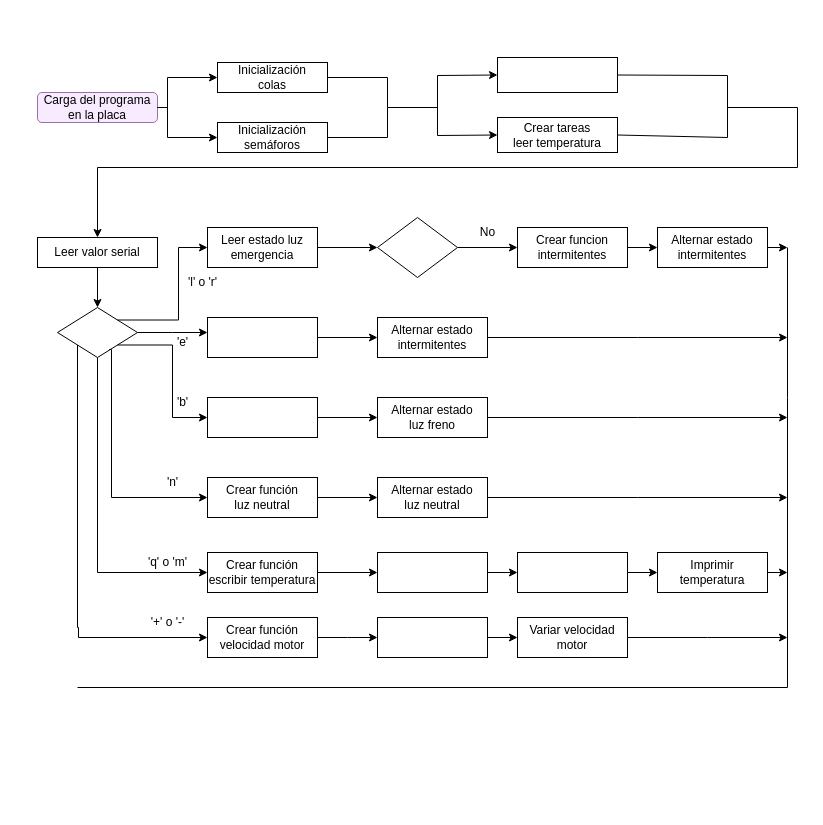
This 823x825 diagram has some shape labels left out. Here are the shapes that lost their labels. From the top down, the centre of each, then its label:
At pixel 557 74: "Crear tarea serial".
At pixel 417 247: "Encendida".
At pixel 97 332: "value_ serial".
At pixel 262 337: "Crear función luz emergencia".
At pixel 262 417: "Crear función luz freno".
At pixel 432 572: "Leer temperatura actual".
At pixel 572 572: "Calcular temperatura real".
At pixel 432 637: "Calcular intervalo velocidad".
